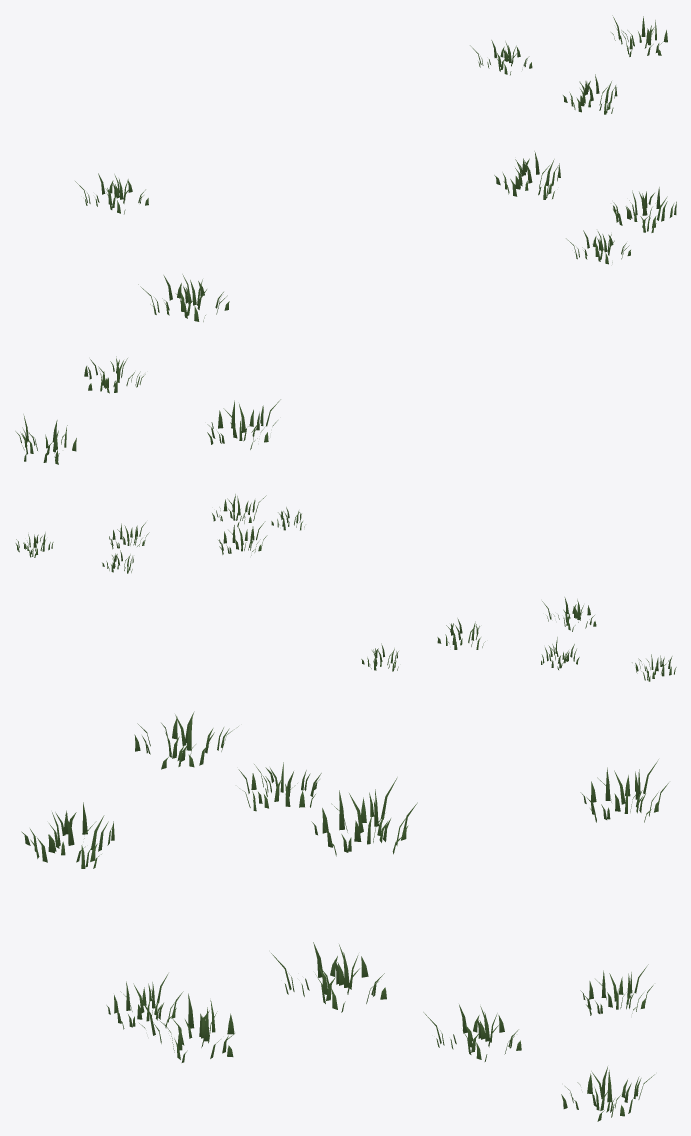
Rendered from P2N_forest_grass_-10_4.glb.
3 renders of one model, top to bottom at view 1: azimuth 30°, elevation 25°; view 2: azimuth 150°, elevation 25°; view 3: azimuth 270°, elevation 25°, orthographic. The views are drawn at different scales.
Parts seen in each view (by area): view 1: P2N_forest_grass_-10_4; view 2: P2N_forest_grass_-10_4; view 3: P2N_forest_grass_-10_4.
Boxes of the visible parts, box(x1,y1,x2,y2) form: P2N_forest_grass_-10_4: box(15, 15, 676, 464); P2N_forest_grass_-10_4: box(15, 494, 676, 681); P2N_forest_grass_-10_4: box(21, 711, 668, 1121).
Bounding box in the file's own units: 12.35 × 2.02 × 6.32.
